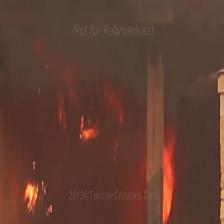fire: (162, 129, 176, 224), (23, 181, 53, 219), (79, 116, 102, 142)
